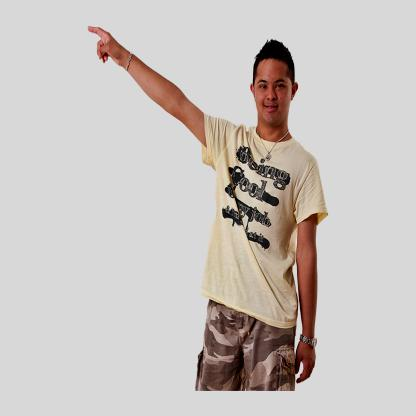Right: (74, 13, 128, 84)
